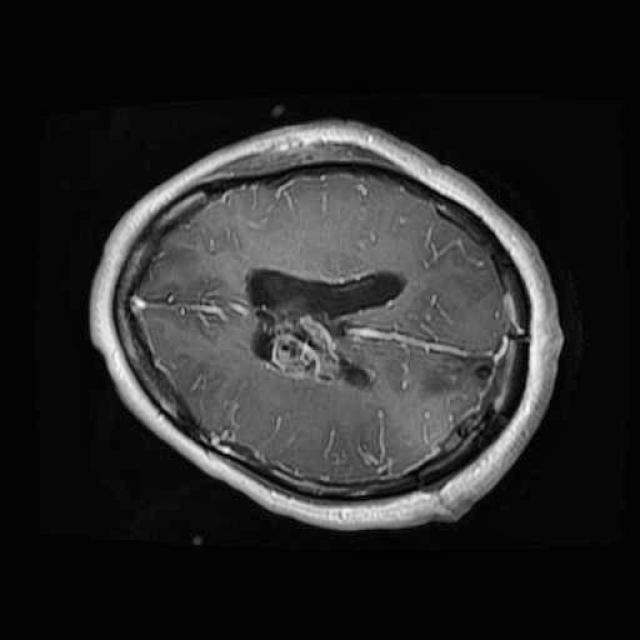Non-Tumor: (264, 305, 356, 395)
